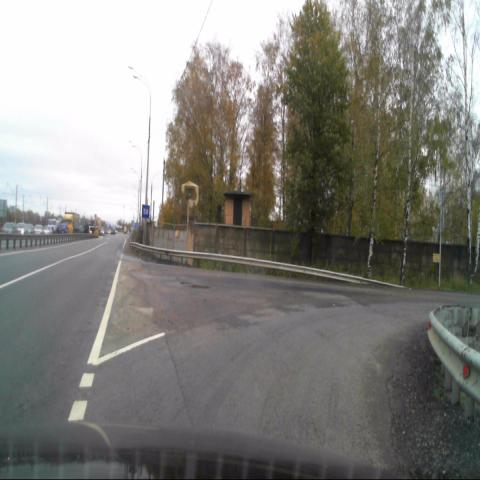6_2: (142, 203, 150, 219)
